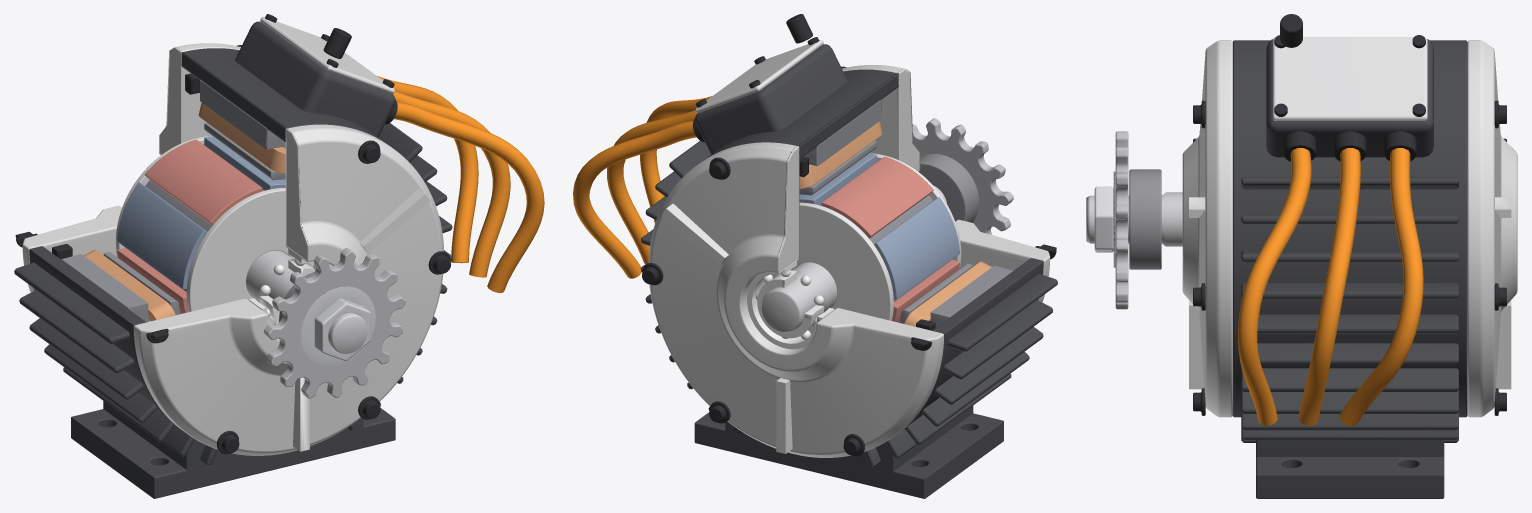
Rendered from motor.glb.
3 views of the same model, side by side, from view 1: azimuth 30°, elevation 25°; view 2: azimuth 150°, elevation 25°; view 3: azimuth 270°, elevation 25° (orthographic). The views are drawn at different scales.
Visible parts, largest first — view 1: motor__endcap_left, motor__cooling_fins, motor__phase_cables, motor__mount_foot, motor__sprocket, motor__housing, motor__rotor_endplate_left, motor__terminal_box, motor__magnets_south, motor__magnets_north, motor__endcap_right, motor__stator (+10 smaller); view 2: motor__endcap_right, motor__cooling_fins, motor__mount_foot, motor__phase_cables, motor__housing, motor__rotor_endplate_right, motor__terminal_box, motor__magnets_south, motor__magnets_north, motor__endcap_left, motor__stator, motor__sprocket (+9 smaller); view 3: motor__housing, motor__cooling_fins, motor__phase_cables, motor__endcap_right, motor__endcap_left, motor__terminal_lid, motor__mount_foot, motor__terminal_box, motor__sprocket_hub, motor__sprocket, motor__cable_glands, motor__shaft (+7 smaller).
Boxes of the visible parts, x1,y1,x2,y2 form: motor__endcap_left: (134, 124, 443, 455); motor__cooling_fins: (14, 123, 452, 465); motor__phase_cables: (377, 76, 544, 292); motor__mount_foot: (71, 401, 395, 498); motor__sprocket: (263, 248, 405, 398); motor__housing: (29, 48, 386, 427); motor__rotor_endplate_left: (186, 188, 314, 324); motor__terminal_box: (235, 21, 395, 137); motor__magnets_south: (117, 136, 285, 289); motor__magnets_north: (117, 139, 262, 313); motor__endcap_right: (22, 43, 240, 292); motor__stator: (61, 80, 285, 322); motor__endcap_right: (648, 142, 943, 457); motor__cooling_fins: (640, 141, 1057, 466); motor__mount_foot: (694, 405, 1003, 498); motor__phase_cables: (573, 96, 711, 278); motor__housing: (703, 69, 1043, 430); motor__rotor_endplate_right: (771, 202, 893, 333); motor__terminal_box: (695, 44, 847, 154); motor__magnets_south: (799, 153, 959, 299); motor__magnets_north: (821, 156, 959, 322); motor__endcap_left: (842, 65, 1050, 302); motor__stator: (799, 99, 1012, 327); motor__sprocket: (912, 118, 1013, 234); motor__housing: (1233, 40, 1467, 417); motor__cooling_fins: (1241, 177, 1458, 442); motor__phase_cables: (1238, 148, 1423, 426); motor__endcap_right: (1467, 40, 1517, 417); motor__endcap_left: (1182, 40, 1232, 417); motor__terminal_lid: (1272, 37, 1427, 120); motor__mount_foot: (1256, 440, 1444, 498); motor__terminal_box: (1266, 39, 1433, 157); motor__sprocket_hub: (1129, 169, 1161, 269); motor__sprocket: (1115, 131, 1128, 309); motor__cable_glands: (1283, 131, 1416, 161); motor__shaft: (1086, 192, 1182, 246).
Bounding box in the file's own units: 27.09 × 24.3 × 20.6.
